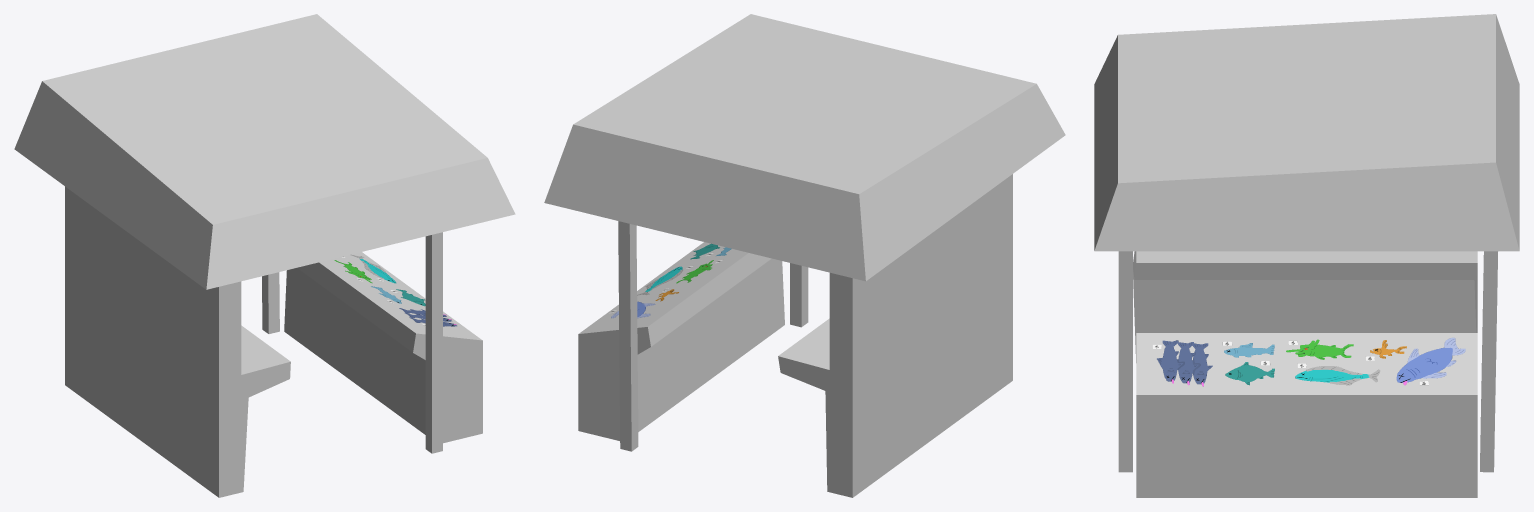
The model's file is Shop.fbx.
The picture shows the model from 3 angles, left to right: view 1: azimuth 30°, elevation 25°; view 2: azimuth 150°, elevation 25°; view 3: azimuth 270°, elevation 25°; orthographic projection. The views are drawn at different scales.
Parts seen in each view (by area): view 1: Roof, Back Wall, Front Table, Pillar_L, Fishing Table Top, Pillar_R; view 2: Roof, Back Wall, Front Table, Pillar_R, Fishing Table Top, Pillar_L; view 3: Roof, Front Table, Back Wall, Fishing Table Top, Pillar_L, Pillar_R.
Boxes of the visible parts, <box> form: Roof: <box>14,14,515,289</box>; Back Wall: <box>65,186,290,497</box>; Front Table: <box>284,252,482,443</box>; Pillar_L: <box>425,232,442,453</box>; Fishing Table Top: <box>334,254,456,326</box>; Pillar_R: <box>262,272,279,333</box>; Roof: <box>544,14,1065,281</box>; Back Wall: <box>778,174,1012,497</box>; Front Table: <box>578,242,784,440</box>; Pillar_R: <box>618,221,638,451</box>; Fishing Table Top: <box>609,243,731,318</box>; Pillar_L: <box>790,263,808,327</box>; Roof: <box>1094,14,1519,251</box>; Front Table: <box>1136,333,1477,497</box>; Back Wall: <box>1133,251,1477,362</box>; Fishing Table Top: <box>1152,337,1465,386</box>; Pillar_L: <box>1118,251,1132,472</box>; Pillar_R: <box>1480,251,1497,472</box>.
Size of the model in its own units: 347 by 324 by 374.
Materials: 1 (1 with a texture image).
